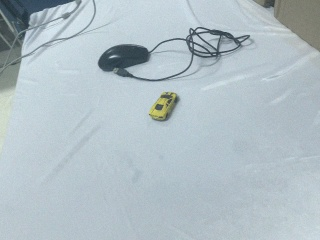mouse: (97, 44, 149, 72)
toy_car: (149, 91, 178, 121)
